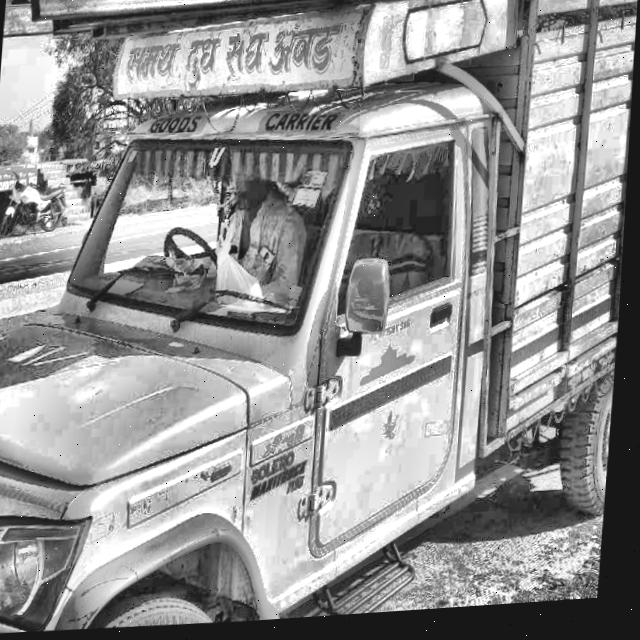light_vehicle: (0, 5, 638, 640)
